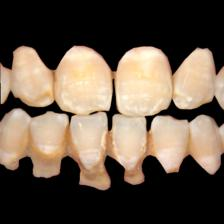cavity: (79, 167, 112, 188), (32, 151, 60, 175), (101, 129, 118, 157), (63, 125, 77, 155), (26, 91, 52, 105), (24, 128, 37, 155), (145, 131, 157, 155), (127, 170, 144, 183), (49, 70, 59, 90), (187, 136, 195, 156), (6, 162, 18, 169), (166, 167, 180, 172)
tooth: (110, 45, 175, 114), (54, 44, 111, 114), (170, 42, 218, 112), (73, 115, 115, 190), (110, 116, 153, 186), (30, 110, 72, 178), (11, 44, 54, 107), (153, 116, 192, 176), (192, 113, 224, 177), (1, 107, 29, 171)
